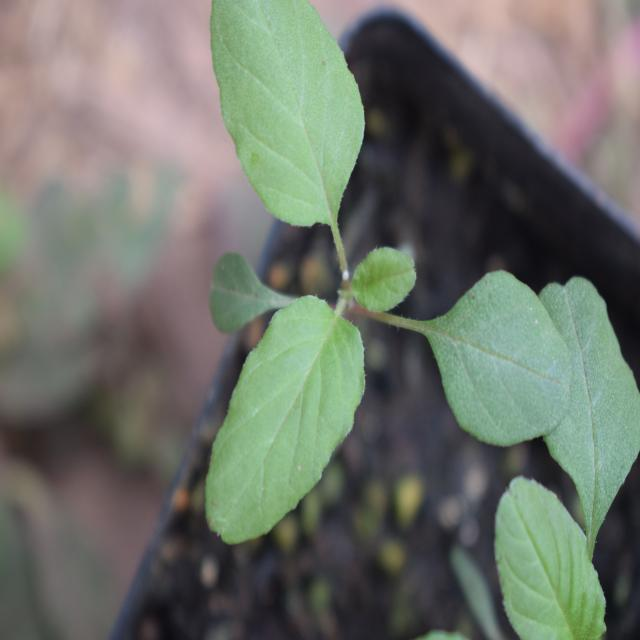pigweed: (164, 7, 596, 503)
